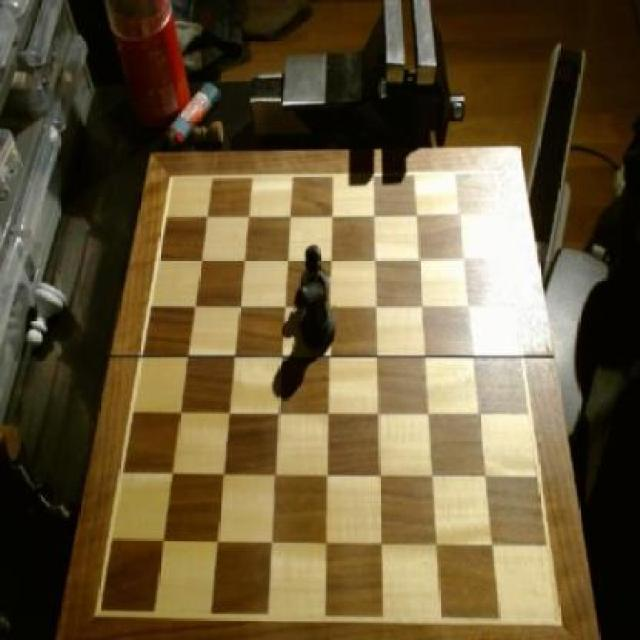black-knight: (298, 246, 328, 299)
black-queen: (292, 277, 337, 357)
